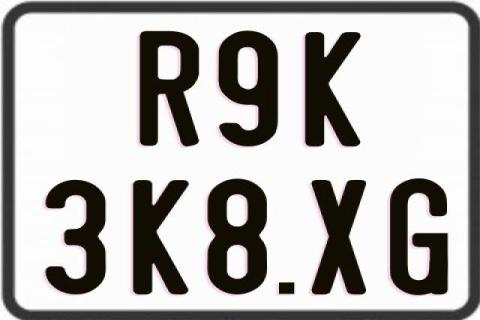0: (218, 29, 284, 149), (43, 178, 110, 292), (205, 178, 267, 296)
G: (390, 176, 449, 298)
K: (133, 178, 195, 298), (304, 31, 361, 149)
R: (138, 29, 203, 147)
X: (308, 178, 365, 298)
